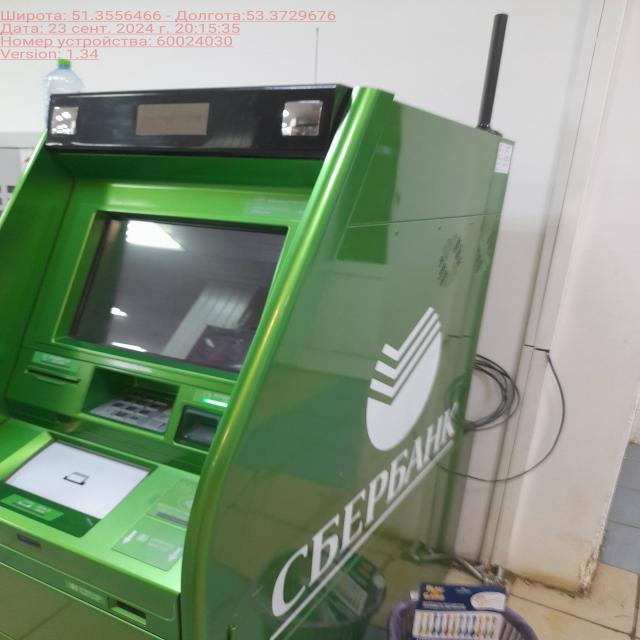bank: (0, 85, 513, 640)
